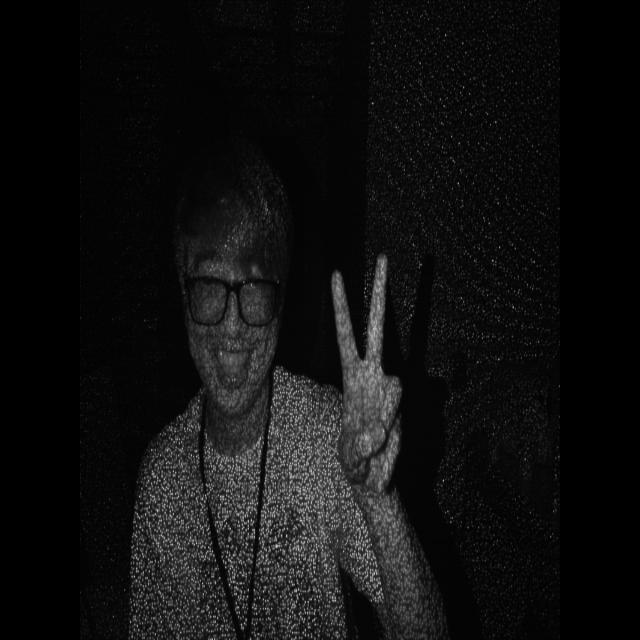V: (312, 220, 413, 486)
